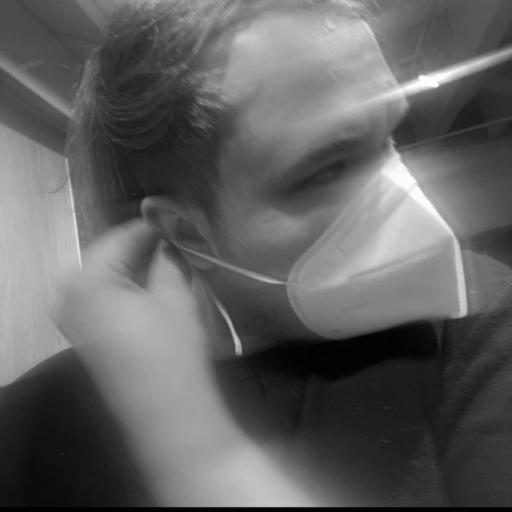mask: (89, 0, 488, 370)
